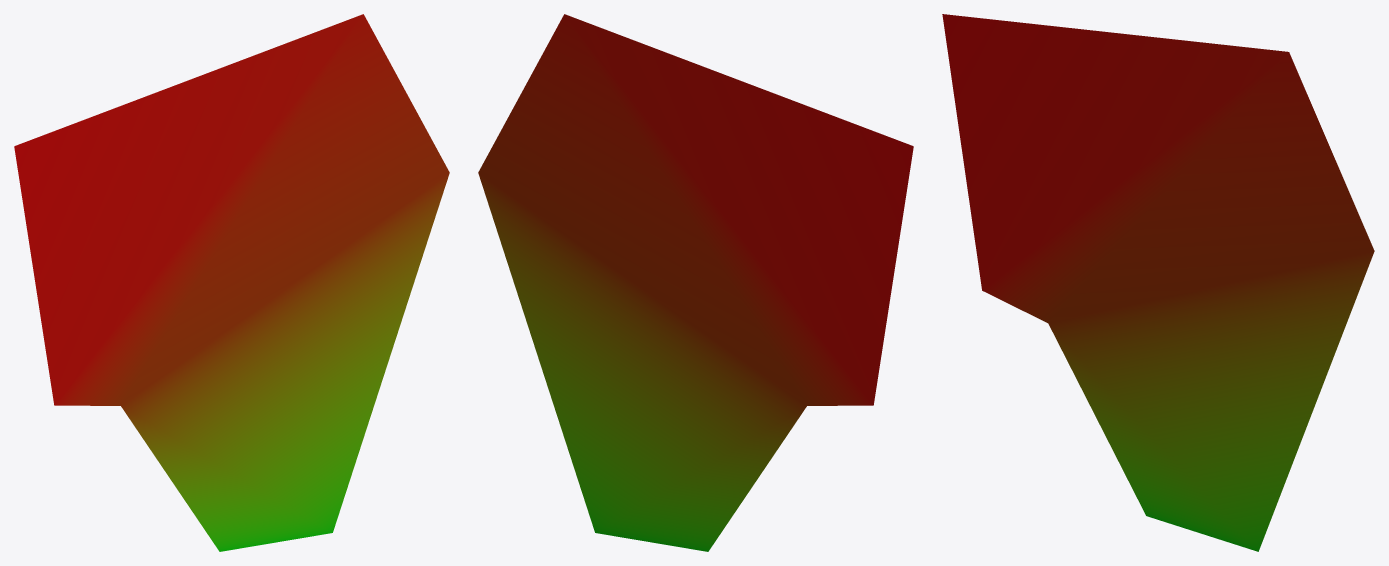
File: ueyoebmia_Var6_LOD3.fbx
3 renders of one model, left to right at view 1: azimuth 30°, elevation 25°; view 2: azimuth 150°, elevation 25°; view 3: azimuth 330°, elevation 25°, orthographic.
Parts seen in each view (by area): view 1: _283a_Var6_LOD3; view 2: _283a_Var6_LOD3; view 3: _283a_Var6_LOD3.
Boxes of the visible parts, x1,y1,x2,y2 form: _283a_Var6_LOD3: [14, 14, 449, 551]; _283a_Var6_LOD3: [478, 14, 913, 551]; _283a_Var6_LOD3: [942, 14, 1374, 551].
Size of the model in its own units: 31.8 by 35.67 by 2.21e-06.
